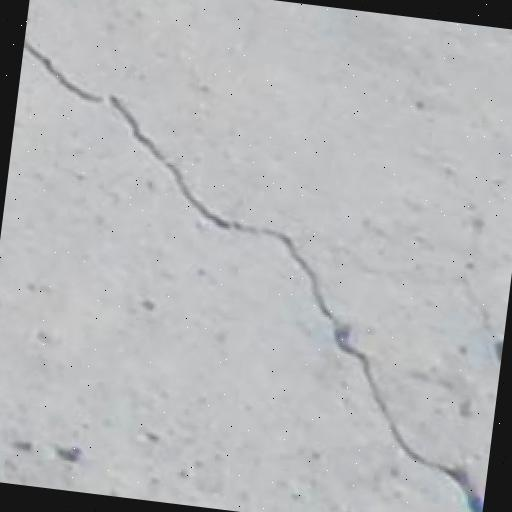spalling: (33, 25, 478, 512)
